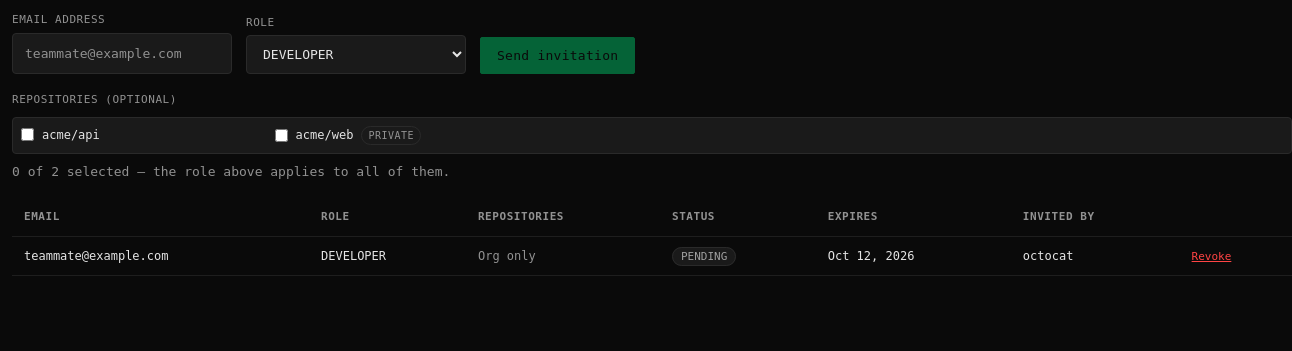
Test: OrgInvitationsComponent — invite form, list, revoke (plan Step 12) › creates an invitation with the selected role and confirms
Step 1. Type "new@example.com" into the field with test id "invite-email" → {"x": 122, "y": 53}, box [12, 32, 232, 74]
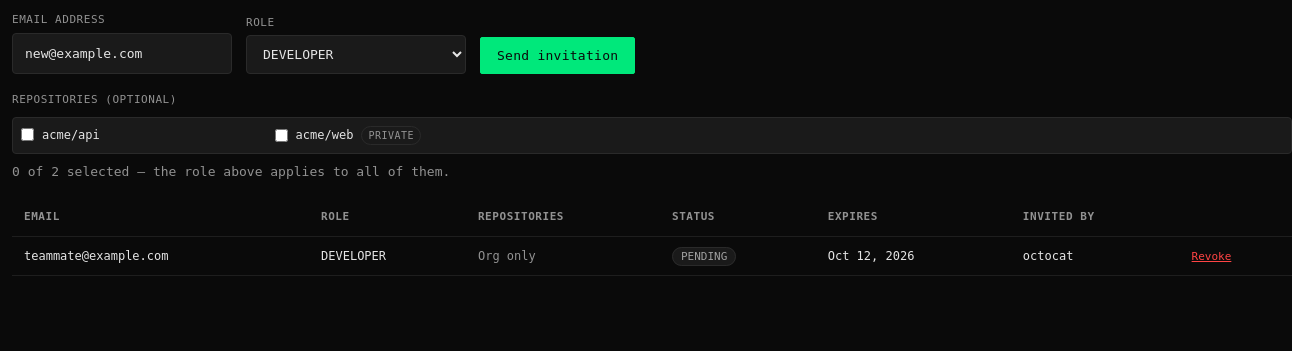
Step 2. Select "REVIEWER" in the dropdown with test id "invite-role" → {"x": 356, "y": 54}, box [246, 35, 466, 74]
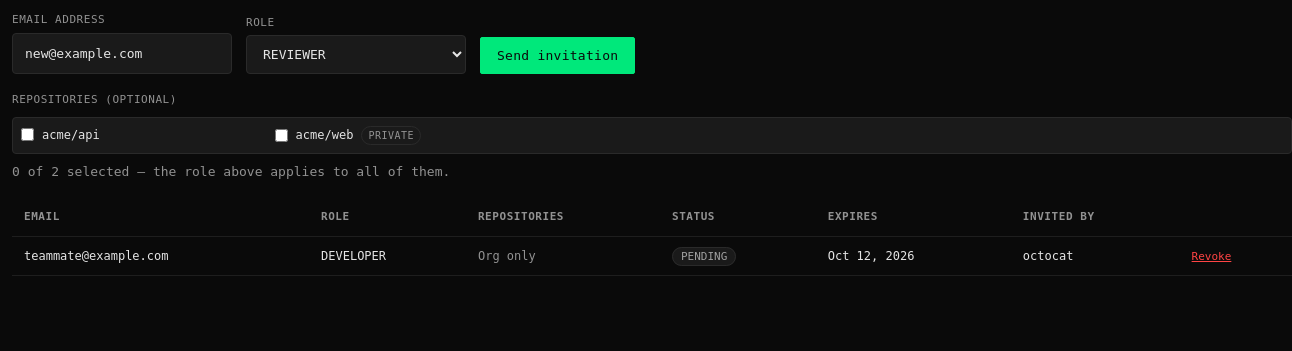
Step 3. Click the button "Send invitation" → {"x": 558, "y": 55}, box [480, 36, 635, 74]
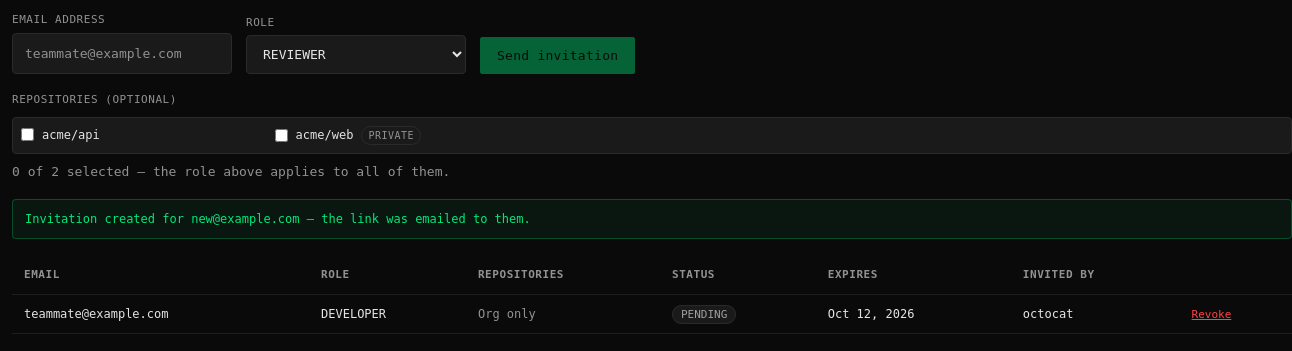
Now the text "Invitation created for new@example.com" is shown, box [25, 212, 531, 226]
